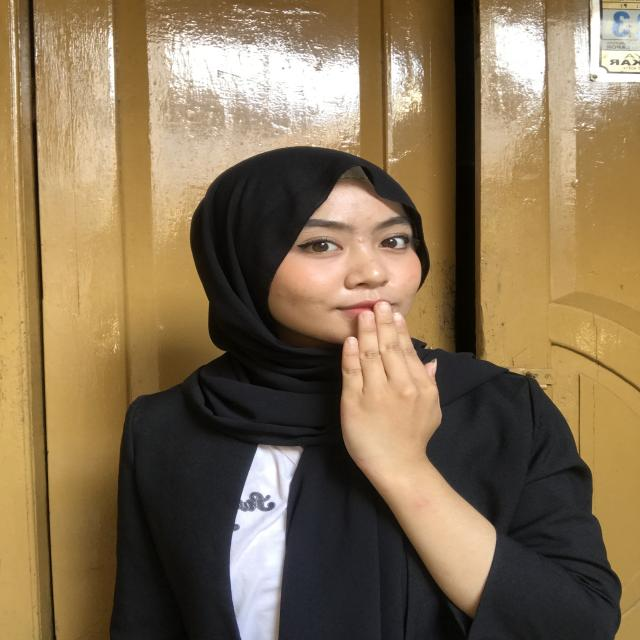ganteng: (306, 289, 468, 477)
